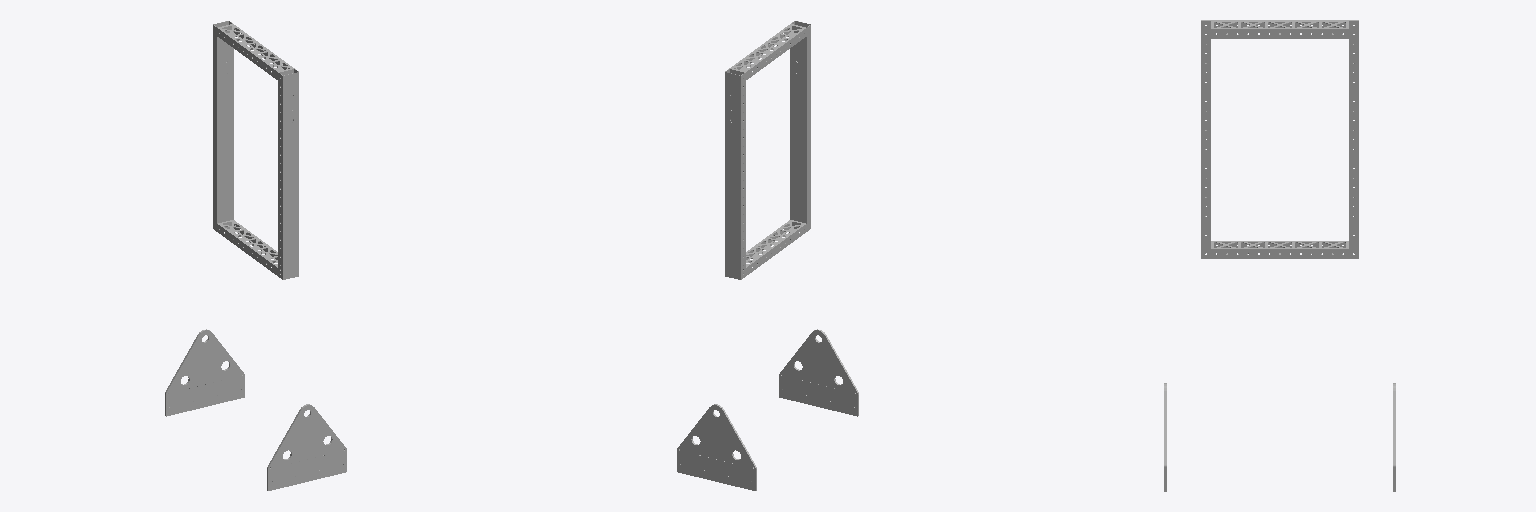
robot.urdf — knighttime_description:
<?xml version="1.0" encoding="utf-8" ?>
<!-- This URDF was automatically created by SolidWorks to URDF Exporter! Originally created by [author] ([email redacted]) 
     Commit Version: 1.6.0-4-g7f85cfe  Build Version: 1.6.7995.38578
     For more information, please see http://wiki.ros.org/sw_urdf_exporter -->
<robot name="knighttime_description">
    <link name="base_link">
        <inertial>
            <origin xyz="0.00366793241853114 0.00290773096243199 0.109134760686588" rpy="0 0 0" />
            <mass value="32.0923334464686" />
            <inertia ixx="2.06184060721584" ixy="-7.05777391430098E-07" ixz="6.26290297112458E-05" iyy="2.08394577109497" iyz="1.14542931581927E-07" izz="4.06881788272179" />
        </inertial>
        <visual>
            <origin xyz="0 0 0" rpy="0 0 0" />
            <geometry>
                <mesh filename="package://knighttime_description/meshes/base_link.STL" />
            </geometry>
            <material name="">
                <color rgba="0.752941176470588 0.752941176470588 0.752941176470588 1" />
            </material>
        </visual>
        <collision>
            <origin xyz="0 0 0" rpy="0 0 0" />
            <geometry>
                <mesh filename="package://knighttime_description/meshes/base_link.STL" />
            </geometry>
        </collision>
    </link>
    <link name="main_mast_link">
        <inertial>
            <origin xyz="-2.70628044402652E-05 -1.00257680477884E-06 0.521428558641285" rpy="0 0 0" />
            <mass value="2.92736446099125" />
            <inertia ixx="0.274890730497369" ixy="2.66961538184854E-10" ixz="-0.000103752206462548" iyy="0.270183568469711" iyz="-1.14496399034325E-06" izz="0.00661869007722592" />
        </inertial>
        <visual>
            <origin xyz="0 0 0" rpy="0 0 0" />
            <geometry>
                <mesh filename="package://knighttime_description/meshes/main_mast_link.STL" />
            </geometry>
            <material name="">
                <color rgba="0.752941176470588 0.752941176470588 0.752941176470588 1" />
            </material>
        </visual>
        <collision>
            <origin xyz="0 0 0" rpy="0 0 0" />
            <geometry>
                <mesh filename="package://knighttime_description/meshes/main_mast_link.STL" />
            </geometry>
        </collision>
    </link>
    <joint name="main_mast_joint" type="revolute">
        <origin xyz="0 0 0.24511" rpy="0 0 0" />
        <parent link="base_link" />
        <child link="main_mast_link" />
        <axis xyz="0 1 0" />
        <limit lower="-1.57" upper="1.57" effort="0" velocity="3" />
    </joint>
    <link name="second_stage">
        <inertial>
            <origin xyz="7.70983966387504E-15 2.31820571844935E-16 -0.15759287302501" rpy="0 0 0" />
            <mass value="0.718426036319629" />
            <inertia ixx="0.019632892367688" ixy="-4.25439758276834E-18" ixz="-5.64533309845954E-18" iyy="0.0187259617907217" iyz="-1.77455129012324E-18" izz="0.00141734865923851" />
        </inertial>
        <visual>
            <origin xyz="0 0 0" rpy="0 0 0" />
            <geometry>
                <mesh filename="package://knighttime_description/meshes/second_stage.STL" />
            </geometry>
            <material name="">
                <color rgba="0.752941176470588 0.752941176470588 0.752941176470588 1" />
            </material>
        </visual>
        <collision>
            <origin xyz="0 0 0" rpy="0 0 0" />
            <geometry>
                <mesh filename="package://knighttime_description/meshes/second_stage.STL" />
            </geometry>
        </collision>
    </link>
    <joint name="second_stage_joint" type="revolute">
        <origin xyz="0 0 0.8763" rpy="0 0 0" />
        <parent link="main_mast_link" />
        <child link="second_stage" />
        <axis xyz="0 1 0" />
        <limit lower="-2.70526" upper="2.70526" effort="0" velocity="3" />
    </joint>
    <link name="extension_link">
        <inertial>
            <origin xyz="0.228639006630954 4.10951606344374E-16 -2.47752720756047E-17" rpy="0 0 0" />
            <mass value="0.706844425336657" />
            <inertia ixx="0.00164163492180235" ixy="8.81973843263766E-19" ixz="-3.44160349526033E-19" iyy="0.00821970281046067" iyz="-1.94538882516496E-19" izz="0.0093859384857373" />
        </inertial>
        <visual>
            <origin xyz="0 0 0" rpy="0 0 0" />
            <geometry>
                <mesh filename="package://knighttime_description/meshes/extension_link.STL" />
            </geometry>
            <material name="">
                <color rgba="0.752941176470588 0.752941176470588 0.752941176470588 1" />
            </material>
        </visual>
        <collision>
            <origin xyz="0 0 0" rpy="0 0 0" />
            <geometry>
                <mesh filename="package://knighttime_description/meshes/extension_link.STL" />
            </geometry>
        </collision>
    </link>
    <joint name="extension_joint" type="prismatic">
        <origin xyz="0 0 -0.0571499999999991" rpy="0 1.5707963267949 0" />
        <parent link="second_stage" />
        <child link="extension_link" />
        <axis xyz="1 0 0" />
        <limit lower="0" upper="0.3048" effort="0" velocity="0" />
    </joint>
    <link name="claw_box_link">
        <inertial>
            <origin xyz="-0.028193448806546 -0.0317575451403042 -0.000817567157003651" rpy="0 0 0" />
            <mass value="0.339591854364122" />
            <inertia ixx="0.00199990060587769" ixy="3.01262381790949E-05" ixz="8.11787156454798E-06" iyy="0.000259292745532175" iyz="1.23194460807444E-05" izz="0.00199608581500413" />
        </inertial>
        <visual>
            <origin xyz="0 0 0" rpy="0 0 0" />
            <geometry>
                <mesh filename="package://knighttime_description/meshes/claw_box_link.STL" />
            </geometry>
            <material name="">
                <color rgba="0.752941176470588 0.752941176470588 0.752941176470588 1" />
            </material>
        </visual>
        <collision>
            <origin xyz="0 0 0" rpy="0 0 0" />
            <geometry>
                <mesh filename="package://knighttime_description/meshes/claw_box_link.STL" />
            </geometry>
        </collision>
    </link>
    <joint name="claw_box_joint" type="fixed">
        <origin xyz="0.524611600000001 0 0" rpy="0 0 0" />
        <parent link="extension_link" />
        <child link="claw_box_link" />
        <axis xyz="0 1 0" />
        <limit lower="-1" upper="1" effort="0" velocity="0" />
    </joint>
    <link name="claw_link">
        <inertial>
            <origin xyz="0.115410284736902 4.01466852052012E-17 -1.20896937583458E-15" rpy="0 0 0" />
            <mass value="1.28711297687921" />
            <inertia ixx="0.00910861016146812" ixy="-3.43107439436541E-18" ixz="7.32634678938271E-17" iyy="0.0074781965707642" iyz="-2.38187194107209E-17" izz="0.0160332108601234" />
        </inertial>
        <visual>
            <origin xyz="0 0 0" rpy="0 0 0" />
            <geometry>
                <mesh filename="package://knighttime_description/meshes/claw_link.STL" />
            </geometry>
            <material name="">
                <color rgba="0.792156862745098 0.819607843137255 0.933333333333333 1" />
            </material>
        </visual>
        <collision>
            <origin xyz="0 0 0" rpy="0 0 0" />
            <geometry>
                <mesh filename="package://knighttime_description/meshes/claw_link.STL" />
            </geometry>
        </collision>
    </link>
    <joint name="claw_joint" type="fixed">
        <origin xyz="0 0 0" rpy="0 0 0" />
        <parent link="claw_box_link" />
        <child link="claw_link" />
        <axis xyz="0 1 0" />
        <limit lower="-1.57" upper="1.57" effort="0" velocity="0" />
    </joint>
    <transmission name="trans_main_mast_joint">
        <type>transmission_interface/SimpleTransmission</type>
        <joint name="main_mast_joint">
            <hardwareInterface>hardware_interface/VelocityJointInterface</hardwareInterface>
        </joint>
        <actuator name="main_mast_joint_motor">
            <hardwareInterface>hardware_interface/VelocityJointInterface</hardwareInterface>
            <mechanicalReduction>1</mechanicalReduction>
        </actuator>
    </transmission>
    <transmission name="trans_second_stage_joint">
        <type>transmission_interface/SimpleTransmission</type>
        <joint name="second_stage_joint">
            <hardwareInterface>hardware_interface/VelocityJointInterface</hardwareInterface>
        </joint>
        <actuator name="second_stage_joint_motor">
            <hardwareInterface>hardware_interface/VelocityJointInterface</hardwareInterface>
            <mechanicalReduction>1</mechanicalReduction>
        </actuator>
    </transmission>
    <transmission name="trans_extension_joint">
        <type>transmission_interface/SimpleTransmission</type>
        <joint name="extension_joint">
            <hardwareInterface>hardware_interface/VelocityJointInterface</hardwareInterface>
        </joint>
        <actuator name="extension_joint_motor">
            <hardwareInterface>hardware_interface/VelocityJointInterface</hardwareInterface>
            <mechanicalReduction>1</mechanicalReduction>
        </actuator>
    </transmission>
    <gazebo>
        <plugin name="gazebo_ros_control">
            <robotNamespace>/</robotNamespace>
        </plugin>
    </gazebo>
</robot>

--- Render facts (derived) ---
3 views of the same robot in one strip: view 1: azimuth 30°, elevation 25°; view 2: azimuth 150°, elevation 25°; view 3: azimuth 270°, elevation 25° (orthographic).
Model knighttime_description with 6 links and 5 joints (2 revolute, 1 prismatic, 2 fixed), rooted at base_link, posed every joint at zero.
Visible links, largest first — view 1: second_stage, base_link; view 2: second_stage, base_link; view 3: second_stage, base_link.
Link boxes in pixels (x1,y1,x2,y2): second_stage: (213, 21, 298, 279); base_link: (165, 329, 346, 490); second_stage: (725, 21, 810, 279); base_link: (677, 329, 858, 490); second_stage: (1201, 20, 1358, 258); base_link: (1164, 383, 1395, 491).
Bounding box of the posed robot: 0.2476 × 0.5588 × 1.18 m (x, y, z).
Meshes: 6 distinct files referenced, 2 mesh visuals loaded (2 binary STL); not drawn: 4 (reference not matched to a file when rendering).